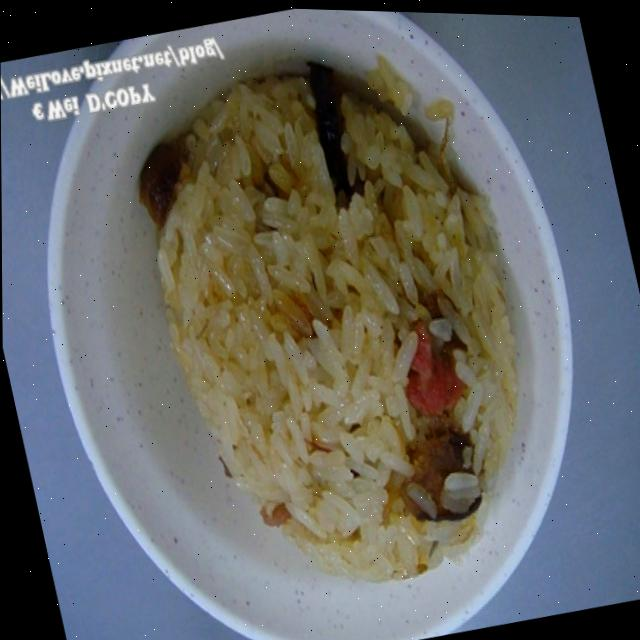米饭主食: (30, 1, 619, 640)
